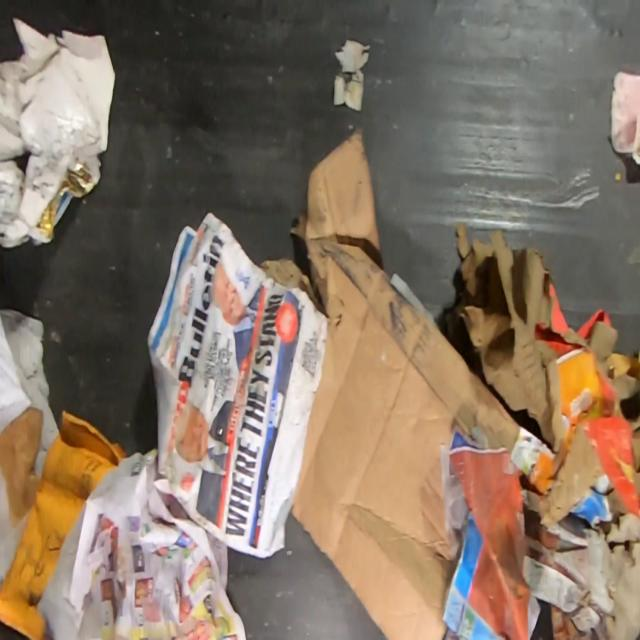cardboard: (256, 125, 516, 640), (444, 220, 640, 640)
